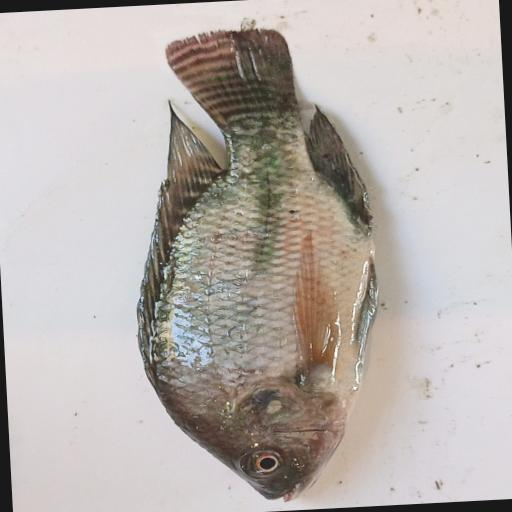Tilapia: (123, 22, 390, 509)
